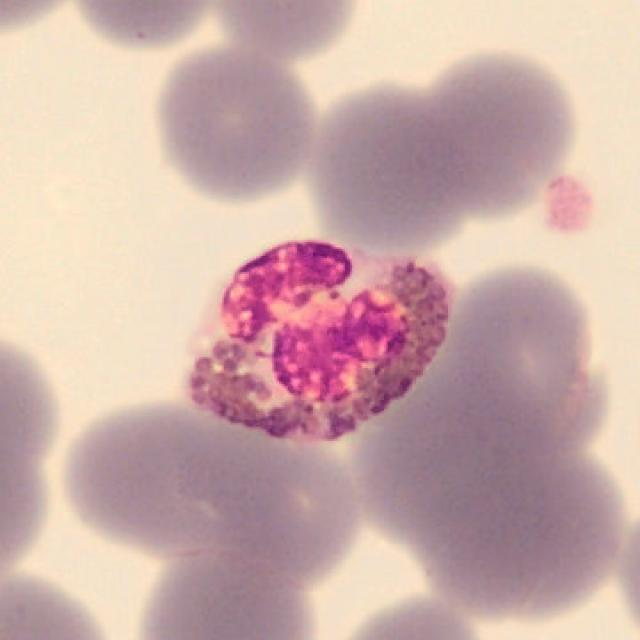Eosinofilo: (185, 240, 455, 444)
